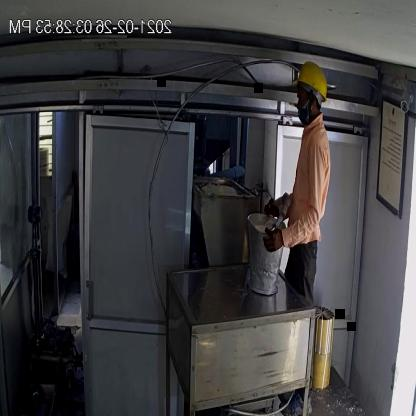helmet: (291, 62, 329, 103)
